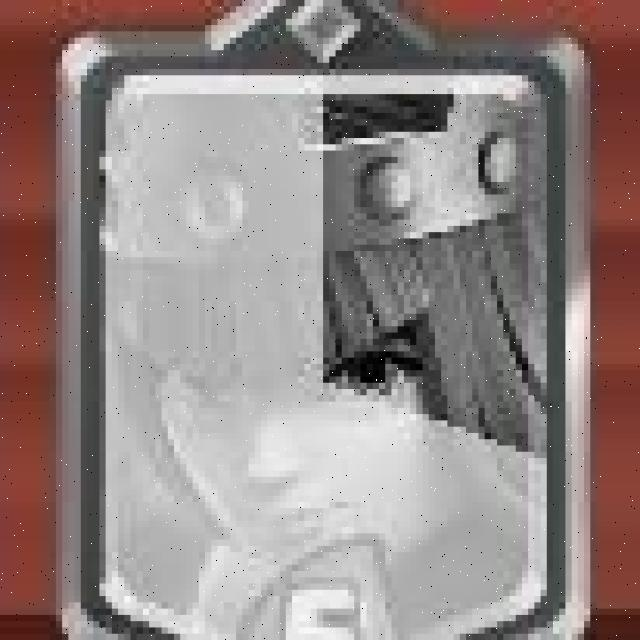Archer_Queen: (48, 0, 596, 640)
